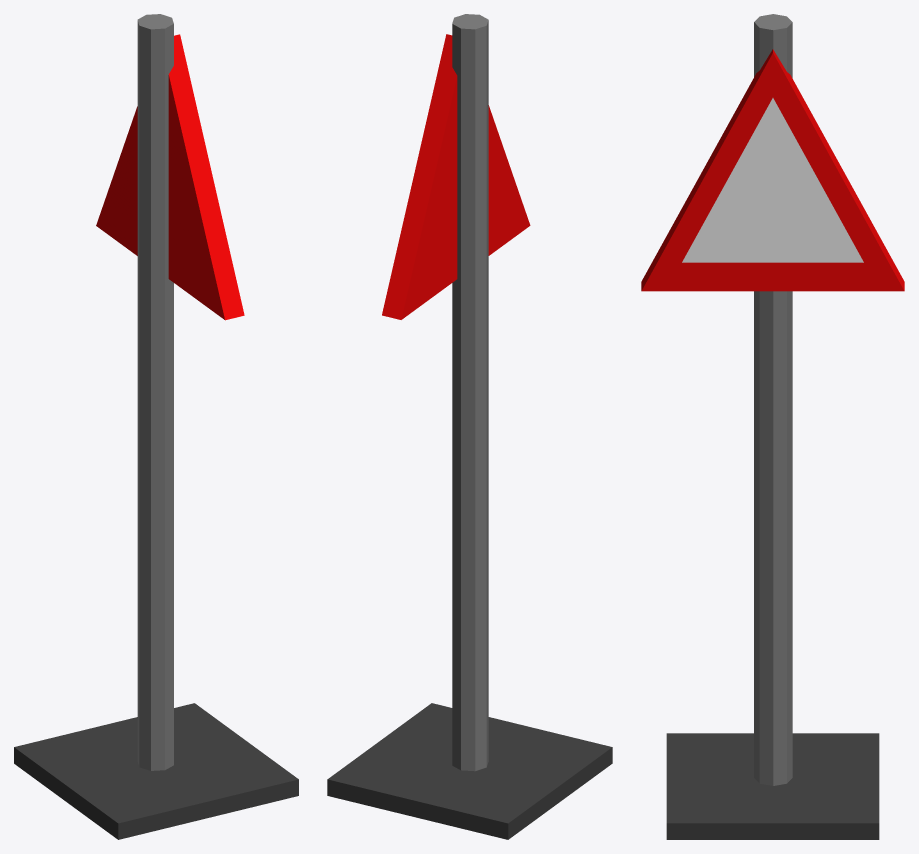
Rendered from traffic_Sign_03.fbx.
3 views of the same model, side by side, from view 1: azimuth 30°, elevation 25°; view 2: azimuth 150°, elevation 25°; view 3: azimuth 270°, elevation 25° (orthographic).
Parts seen in each view (by area): view 1: traffic_Sign_03; view 2: traffic_Sign_03; view 3: traffic_Sign_03.
Boxes of the visible parts, box(x1,y1,x2,y2) form: traffic_Sign_03: box(14, 14, 298, 839); traffic_Sign_03: box(327, 14, 612, 839); traffic_Sign_03: box(641, 14, 904, 839).
Size of the model in its own units: 60.75 by 244 by 75.21.
